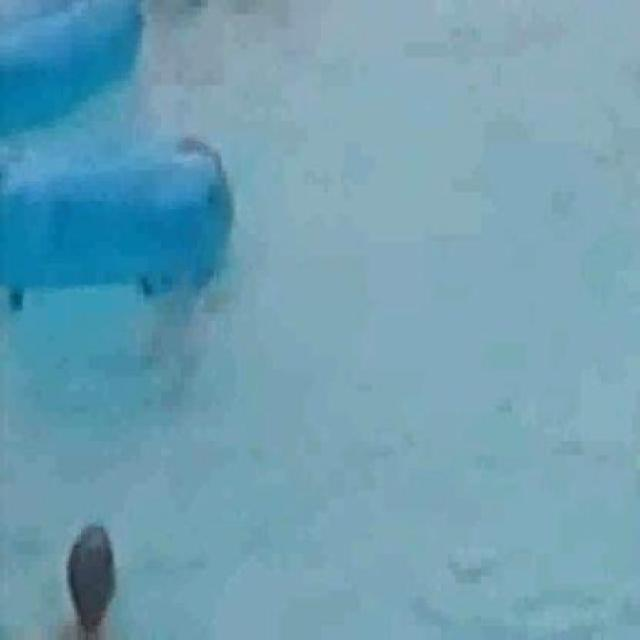drowning: (164, 128, 291, 342)
